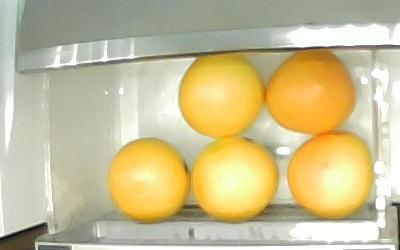grapefruit: (285, 129, 373, 218), (190, 135, 279, 221), (265, 51, 355, 134), (106, 136, 190, 222), (177, 57, 265, 137)
